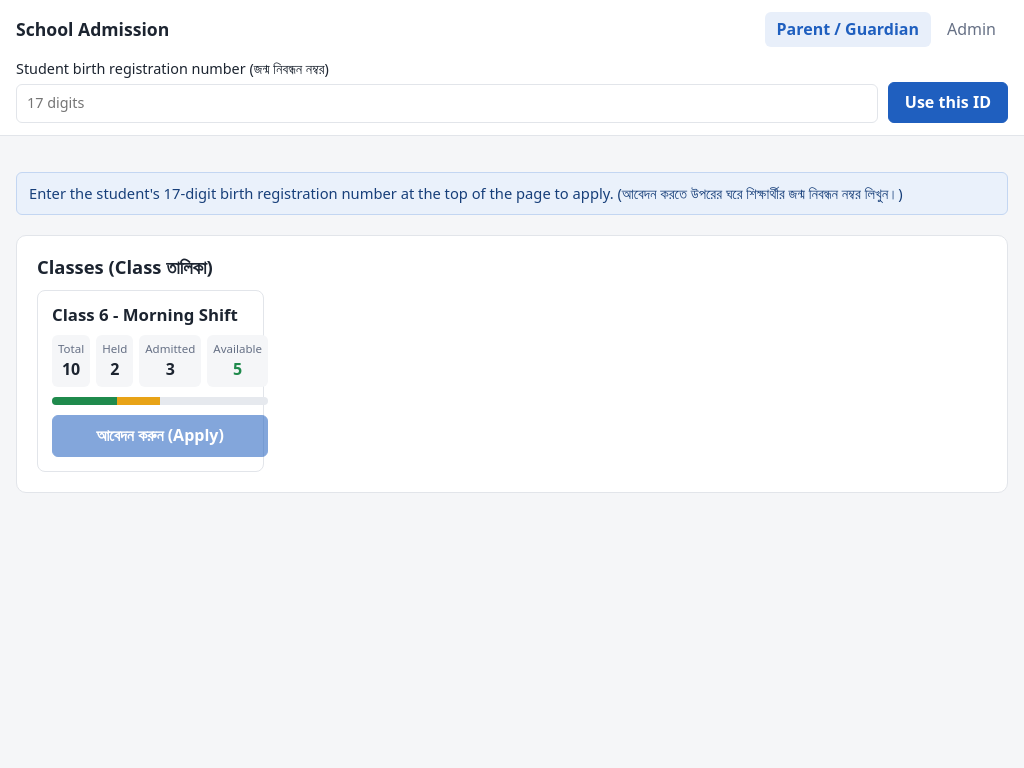
it: App › has a student ID box at the top that validates and remembers the 17-digit number
Expected: the button with aria-label "Apply for Class 6" is disabled, [52,415,268,457]
Step 1. Type "12345" into the field labelled "Student birth registration number (জন্ম নিবন্ধন নম্বর)" → (447, 104), box [16,84,878,123]
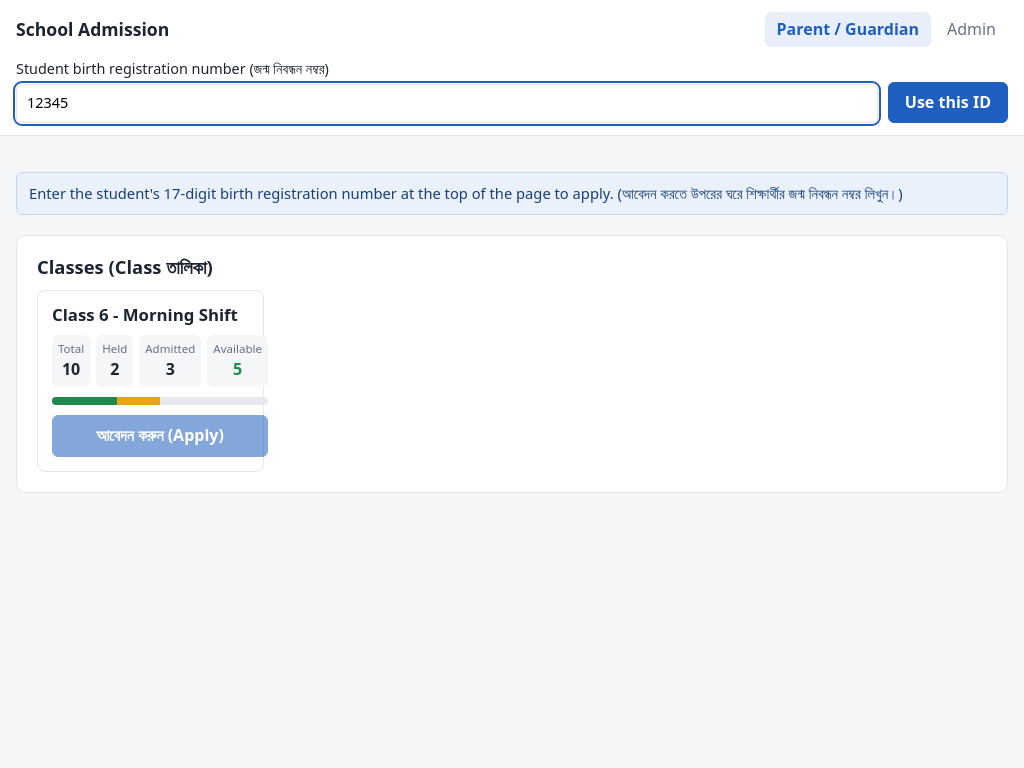
Step 2. Click the button "Use this ID" → click(948, 102), box [888,82,1008,123]
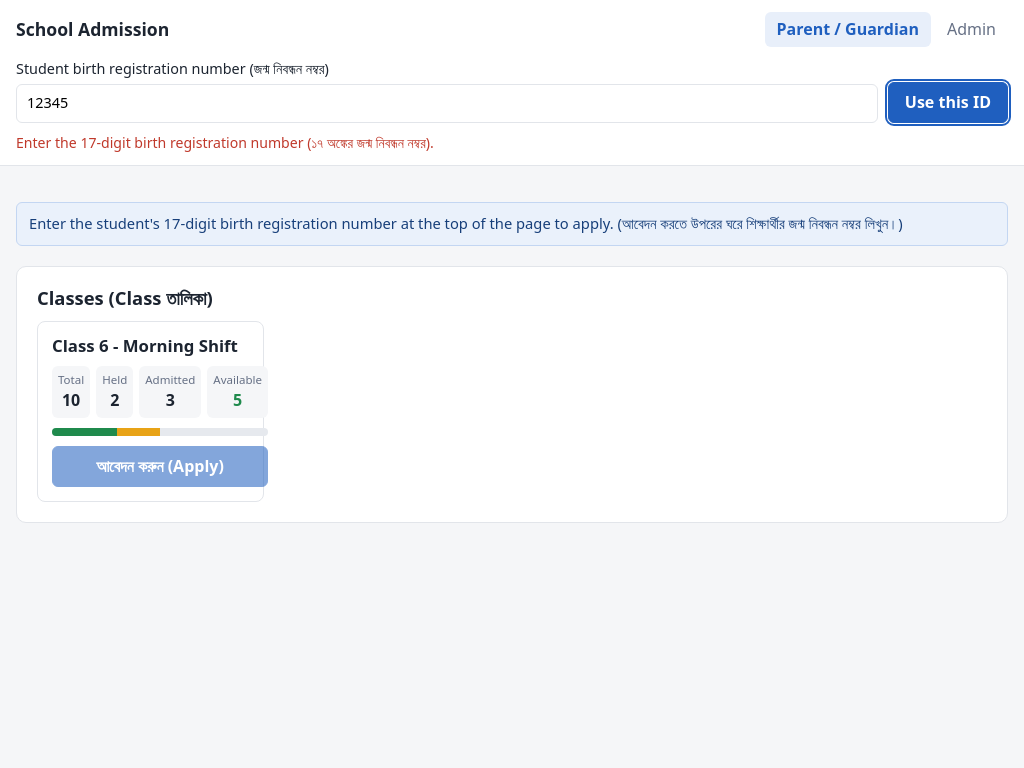
Expected: the message "Enter the 17-digit birth registration number (১৭ অঙ্কের জন্ম নিবন্ধন নম্বর)." is shown, [16,133,434,152]
Step 3. Replace the text in the field labelled "Student birth registration number (জন্ম নিবন্ধন নম্বর)" with "20150123456789012" → (447, 104), box [16,84,878,123]
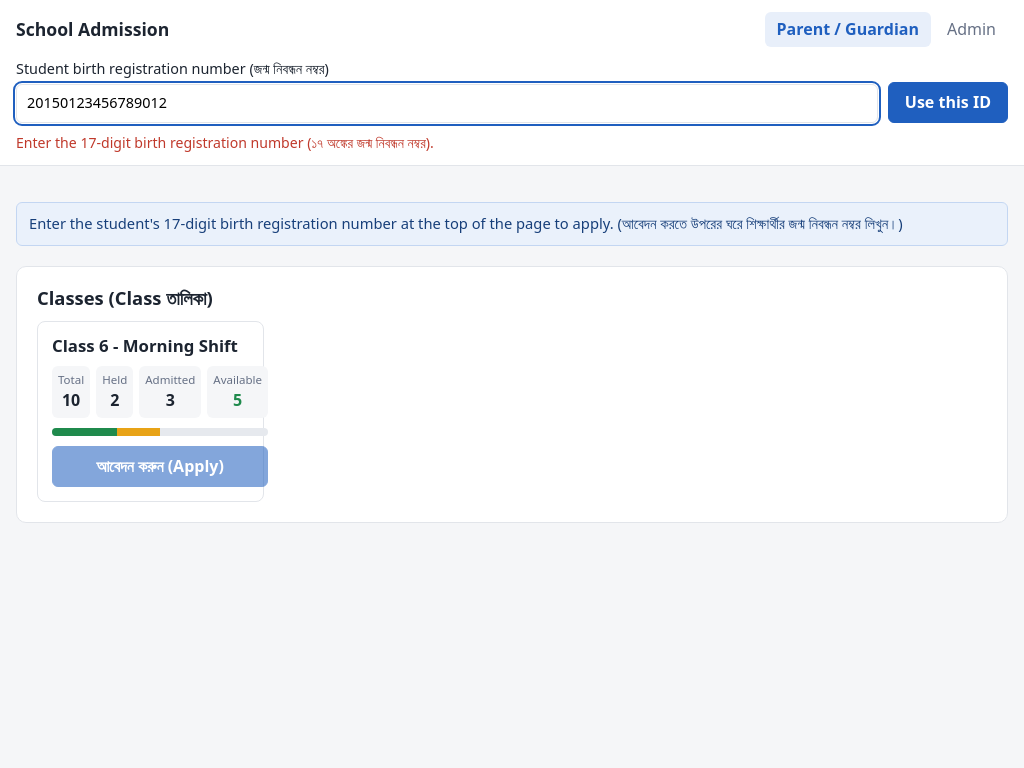
Step 4. Click the button "Use this ID" → click(948, 102), box [888,82,1008,123]
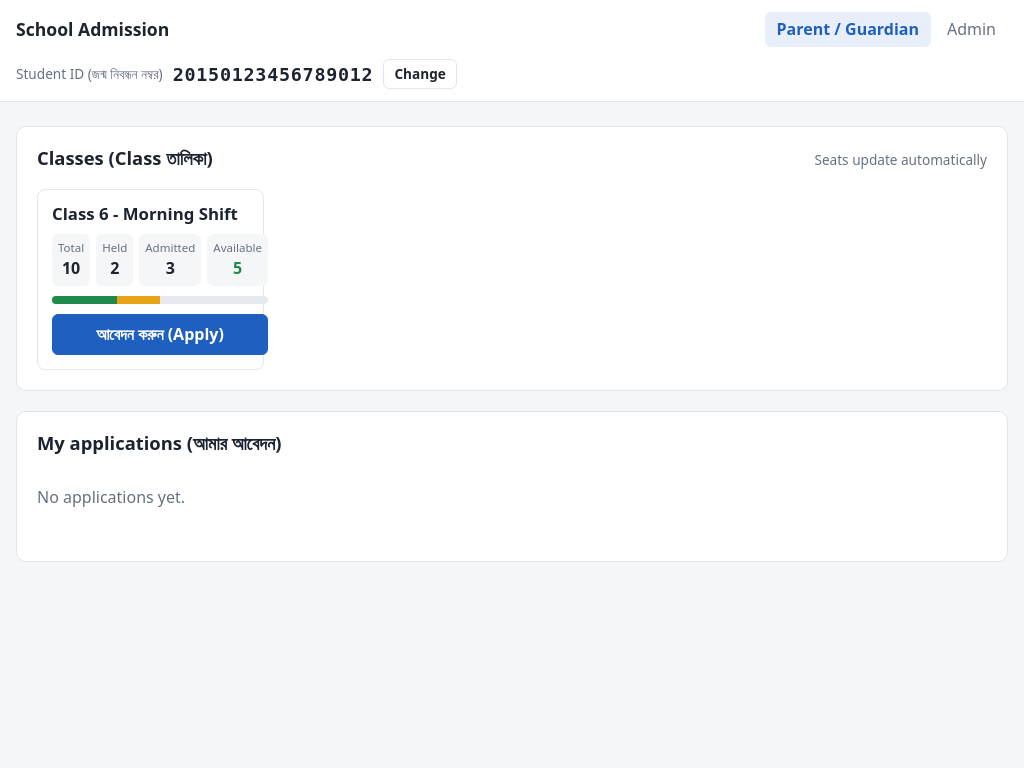
Expected: the text "20150123456789012" is shown, [173,62,374,89]
Expected: the button with aria-label "Apply for Class 6" is enabled, [52,314,268,355]
